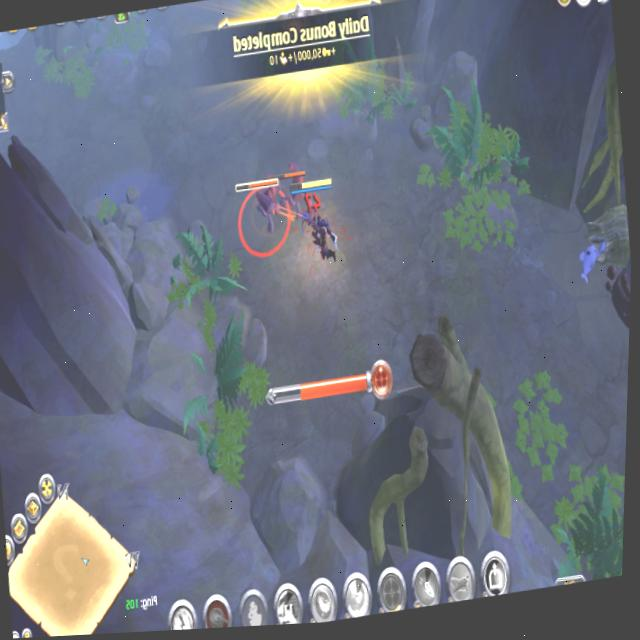ore: (228, 170, 293, 268), (277, 159, 314, 221)
red: (287, 174, 345, 281)
